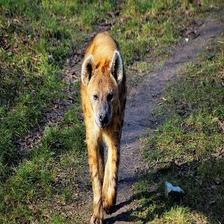hyena: (74, 29, 128, 224)
